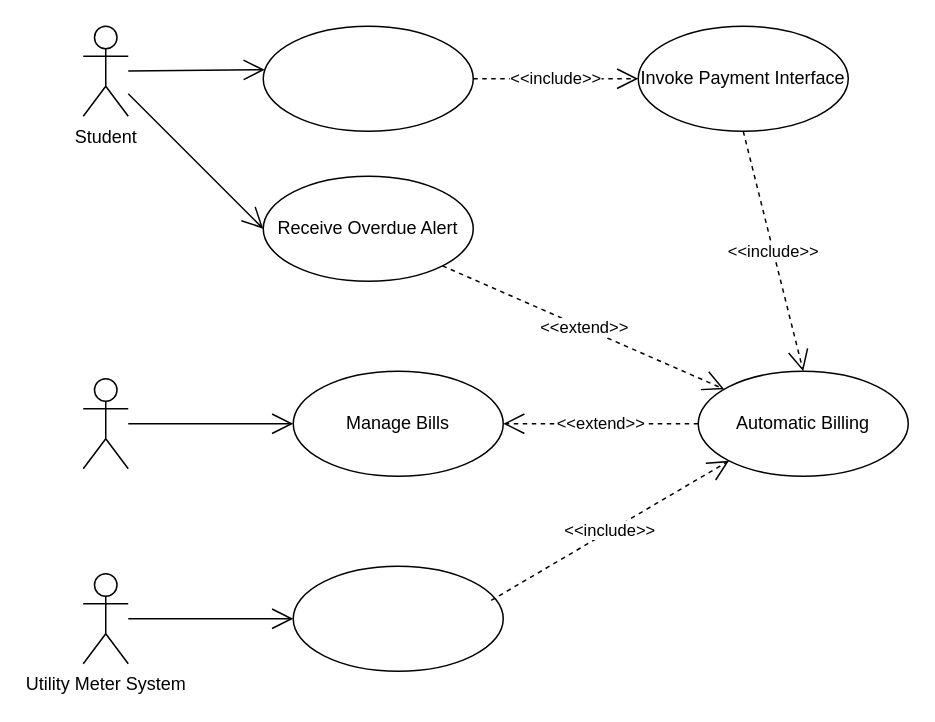
Image size: 935x722. Some labels were removed from this diagram. The box of each missing label's shape, as (x1, y1, x2, y2) in pixels:
Dorm Administrator: (82, 377, 128, 469)
Pay Fees Online: (262, 25, 473, 131)
Read Utility Data: (292, 565, 503, 671)
